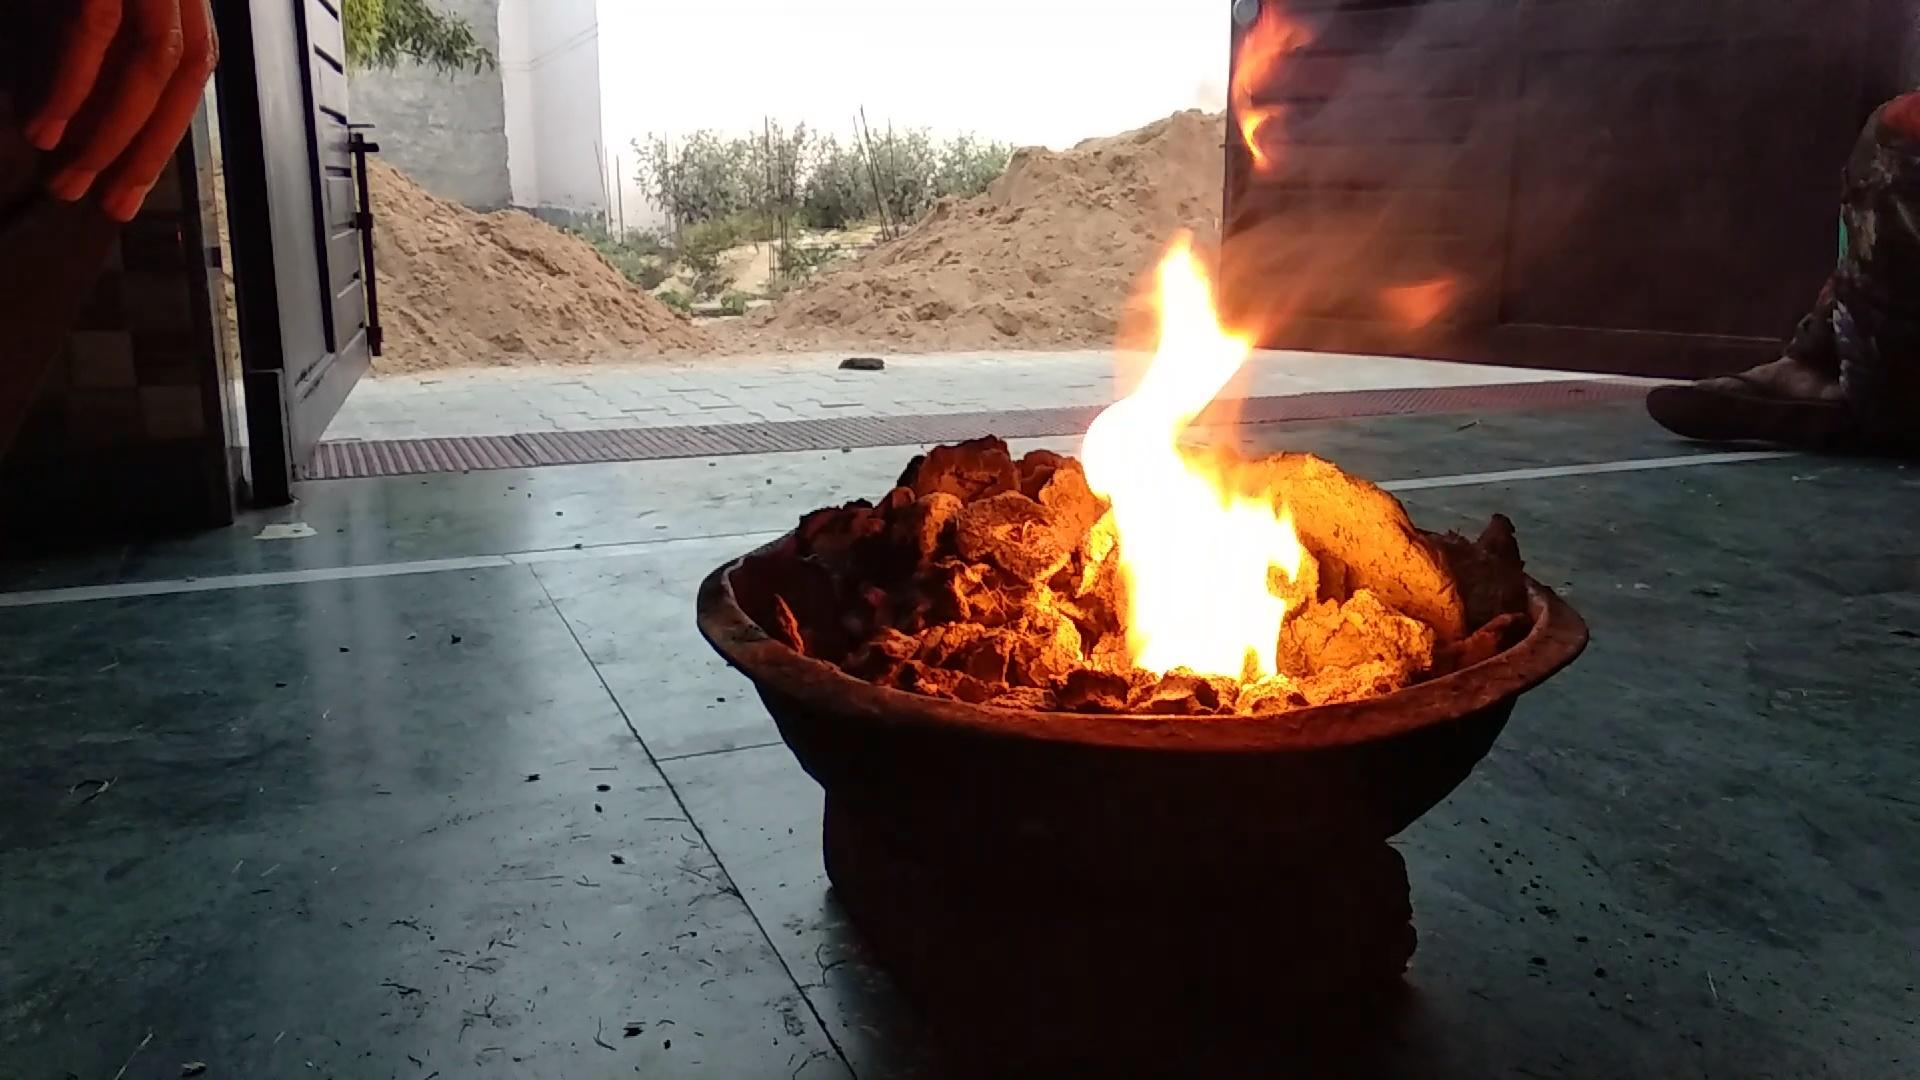fire: (1084, 242, 1363, 705)
